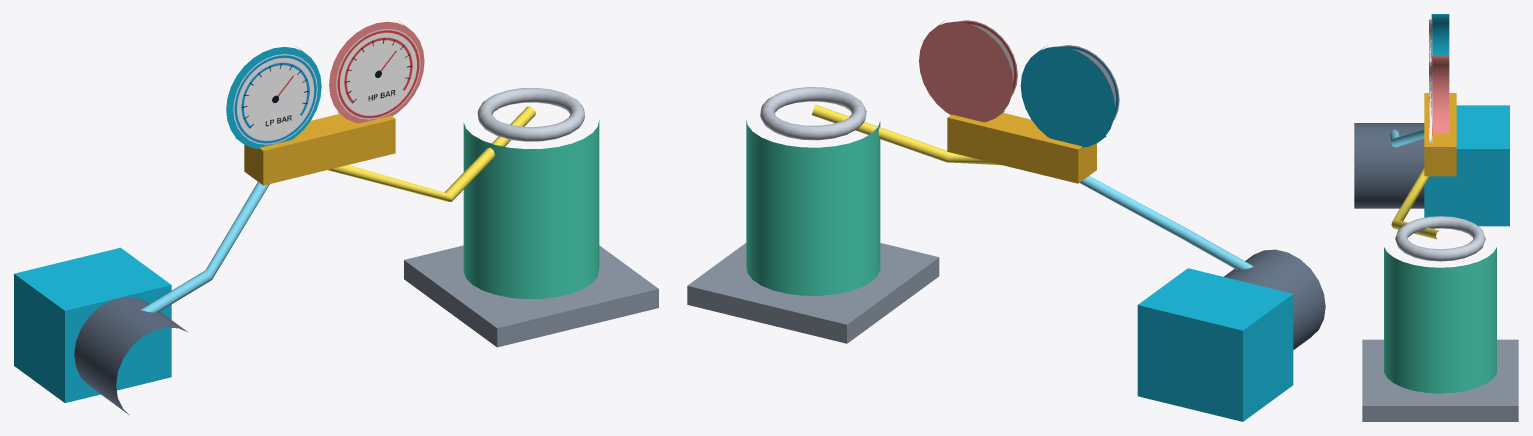
The model's file is hvac-service.glb.
3 views of the same model, side by side, from view 1: azimuth 30°, elevation 25°; view 2: azimuth 150°, elevation 25°; view 3: azimuth 270°, elevation 25° (orthographic). The views are drawn at different scales.
Parts seen in each view (by area): view 1: Freon_Tank, Vac_Motor, Scale_Base, Manifold_Brass, Gauge_HP_Dial, Gauge_LP_Dial, Vac_Cyl, Tank_Collar, Yellow_Hose, Blue_Hose, Gauge_LP_Body, Gauge_HP_Body; view 2: Freon_Tank, Vac_Motor, Scale_Base, Gauge_HP_Body, Gauge_LP_Body, Manifold_Brass, Vac_Cyl, Tank_Collar, Blue_Hose, Yellow_Hose, Gauge_HP_Dial, Gauge_LP_Dial; view 3: Freon_Tank, Vac_Motor, Scale_Base, Vac_Cyl, Tank_Collar, Manifold_Brass, Gauge_HP_Body, Yellow_Hose, Gauge_LP_Body, Blue_Hose, Gauge_HP_Dial.
Part boxes in pixels (x1=…): Freon_Tank: x1=463, y1=120, x2=599, y2=298; Vac_Motor: x1=14, y1=247, x2=171, y2=402; Scale_Base: x1=404, y1=245, x2=658, y2=347; Manifold_Brass: x1=244, y1=114, x2=395, y2=185; Gauge_HP_Dial: x1=336, y1=29, x2=420, y2=119; Gauge_LP_Dial: x1=233, y1=54, x2=317, y2=144; Vac_Cyl: x1=74, y1=297, x2=187, y2=415; Tank_Collar: x1=477, y1=88, x2=584, y2=141; Yellow_Hose: x1=328, y1=106, x2=535, y2=201; Blue_Hose: x1=141, y1=182, x2=269, y2=312; Gauge_LP_Body: x1=226, y1=46, x2=321, y2=148; Gauge_HP_Body: x1=329, y1=21, x2=424, y2=123; Freon_Tank: x1=746, y1=119, x2=880, y2=295; Vac_Motor: x1=1137, y1=268, x2=1293, y2=421; Scale_Base: x1=687, y1=243, x2=939, y2=343; Gauge_HP_Body: x1=919, y1=21, x2=1013, y2=122; Gauge_LP_Body: x1=1020, y1=46, x2=1114, y2=147; Manifold_Brass: x1=947, y1=113, x2=1096, y2=183; Vac_Cyl: x1=1224, y1=249, x2=1325, y2=349; Tank_Collar: x1=760, y1=87, x2=866, y2=140; Blue_Hose: x1=1080, y1=176, x2=1253, y2=269; Yellow_Hose: x1=811, y1=104, x2=1001, y2=165; Gauge_HP_Dial: x1=957, y1=20, x2=1017, y2=95; Gauge_LP_Dial: x1=1059, y1=45, x2=1119, y2=120; Freon_Tank: x1=1384, y1=247, x2=1496, y2=393; Vac_Motor: x1=1424, y1=105, x2=1509, y2=226; Scale_Base: x1=1362, y1=339, x2=1518, y2=421; Vac_Cyl: x1=1354, y1=123, x2=1424, y2=208; Tank_Collar: x1=1395, y1=216, x2=1485, y2=261; Manifold_Brass: x1=1424, y1=93, x2=1456, y2=176; Gauge_HP_Body: x1=1431, y1=56, x2=1449, y2=148; Yellow_Hose: x1=1391, y1=167, x2=1439, y2=239; Gauge_LP_Body: x1=1431, y1=14, x2=1449, y2=55; Blue_Hose: x1=1389, y1=128, x2=1424, y2=147; Gauge_HP_Dial: x1=1429, y1=61, x2=1432, y2=143.
Bounding box in the file's own units: 3.03 × 1.63 × 0.925.
12 materials, 2 textured.
